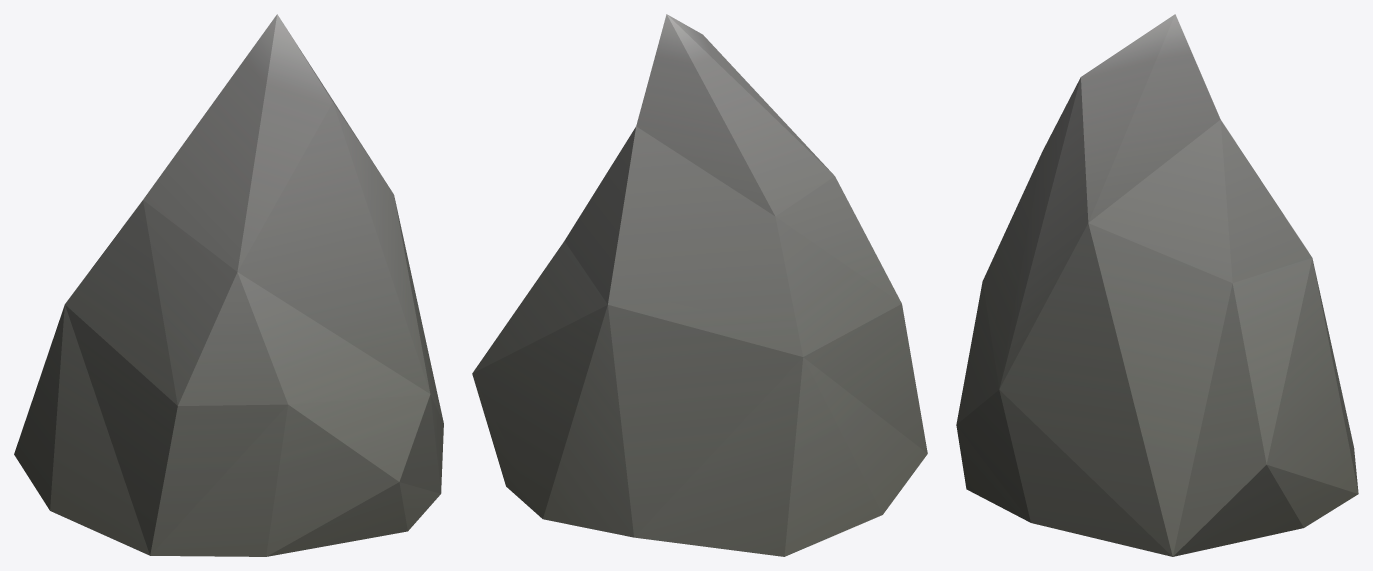
Rendered from Mountain_06.fbx.
3 views of the same model, side by side, from view 1: azimuth 30°, elevation 25°; view 2: azimuth 150°, elevation 25°; view 3: azimuth 270°, elevation 25° (orthographic). The views are drawn at different scales.
Visible parts, largest first — view 1: Mountain_06; view 2: Mountain_06; view 3: Mountain_06.
Boxes of the visible parts, bbox=[...] form: Mountain_06: bbox=[14, 14, 443, 556]; Mountain_06: bbox=[472, 14, 927, 556]; Mountain_06: bbox=[956, 14, 1358, 556].
Size of the model in its own units: 1777 by 1986 by 1558.
